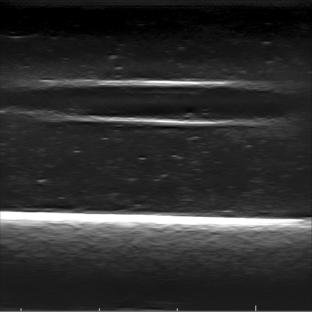vessel: (5, 78, 292, 128)
